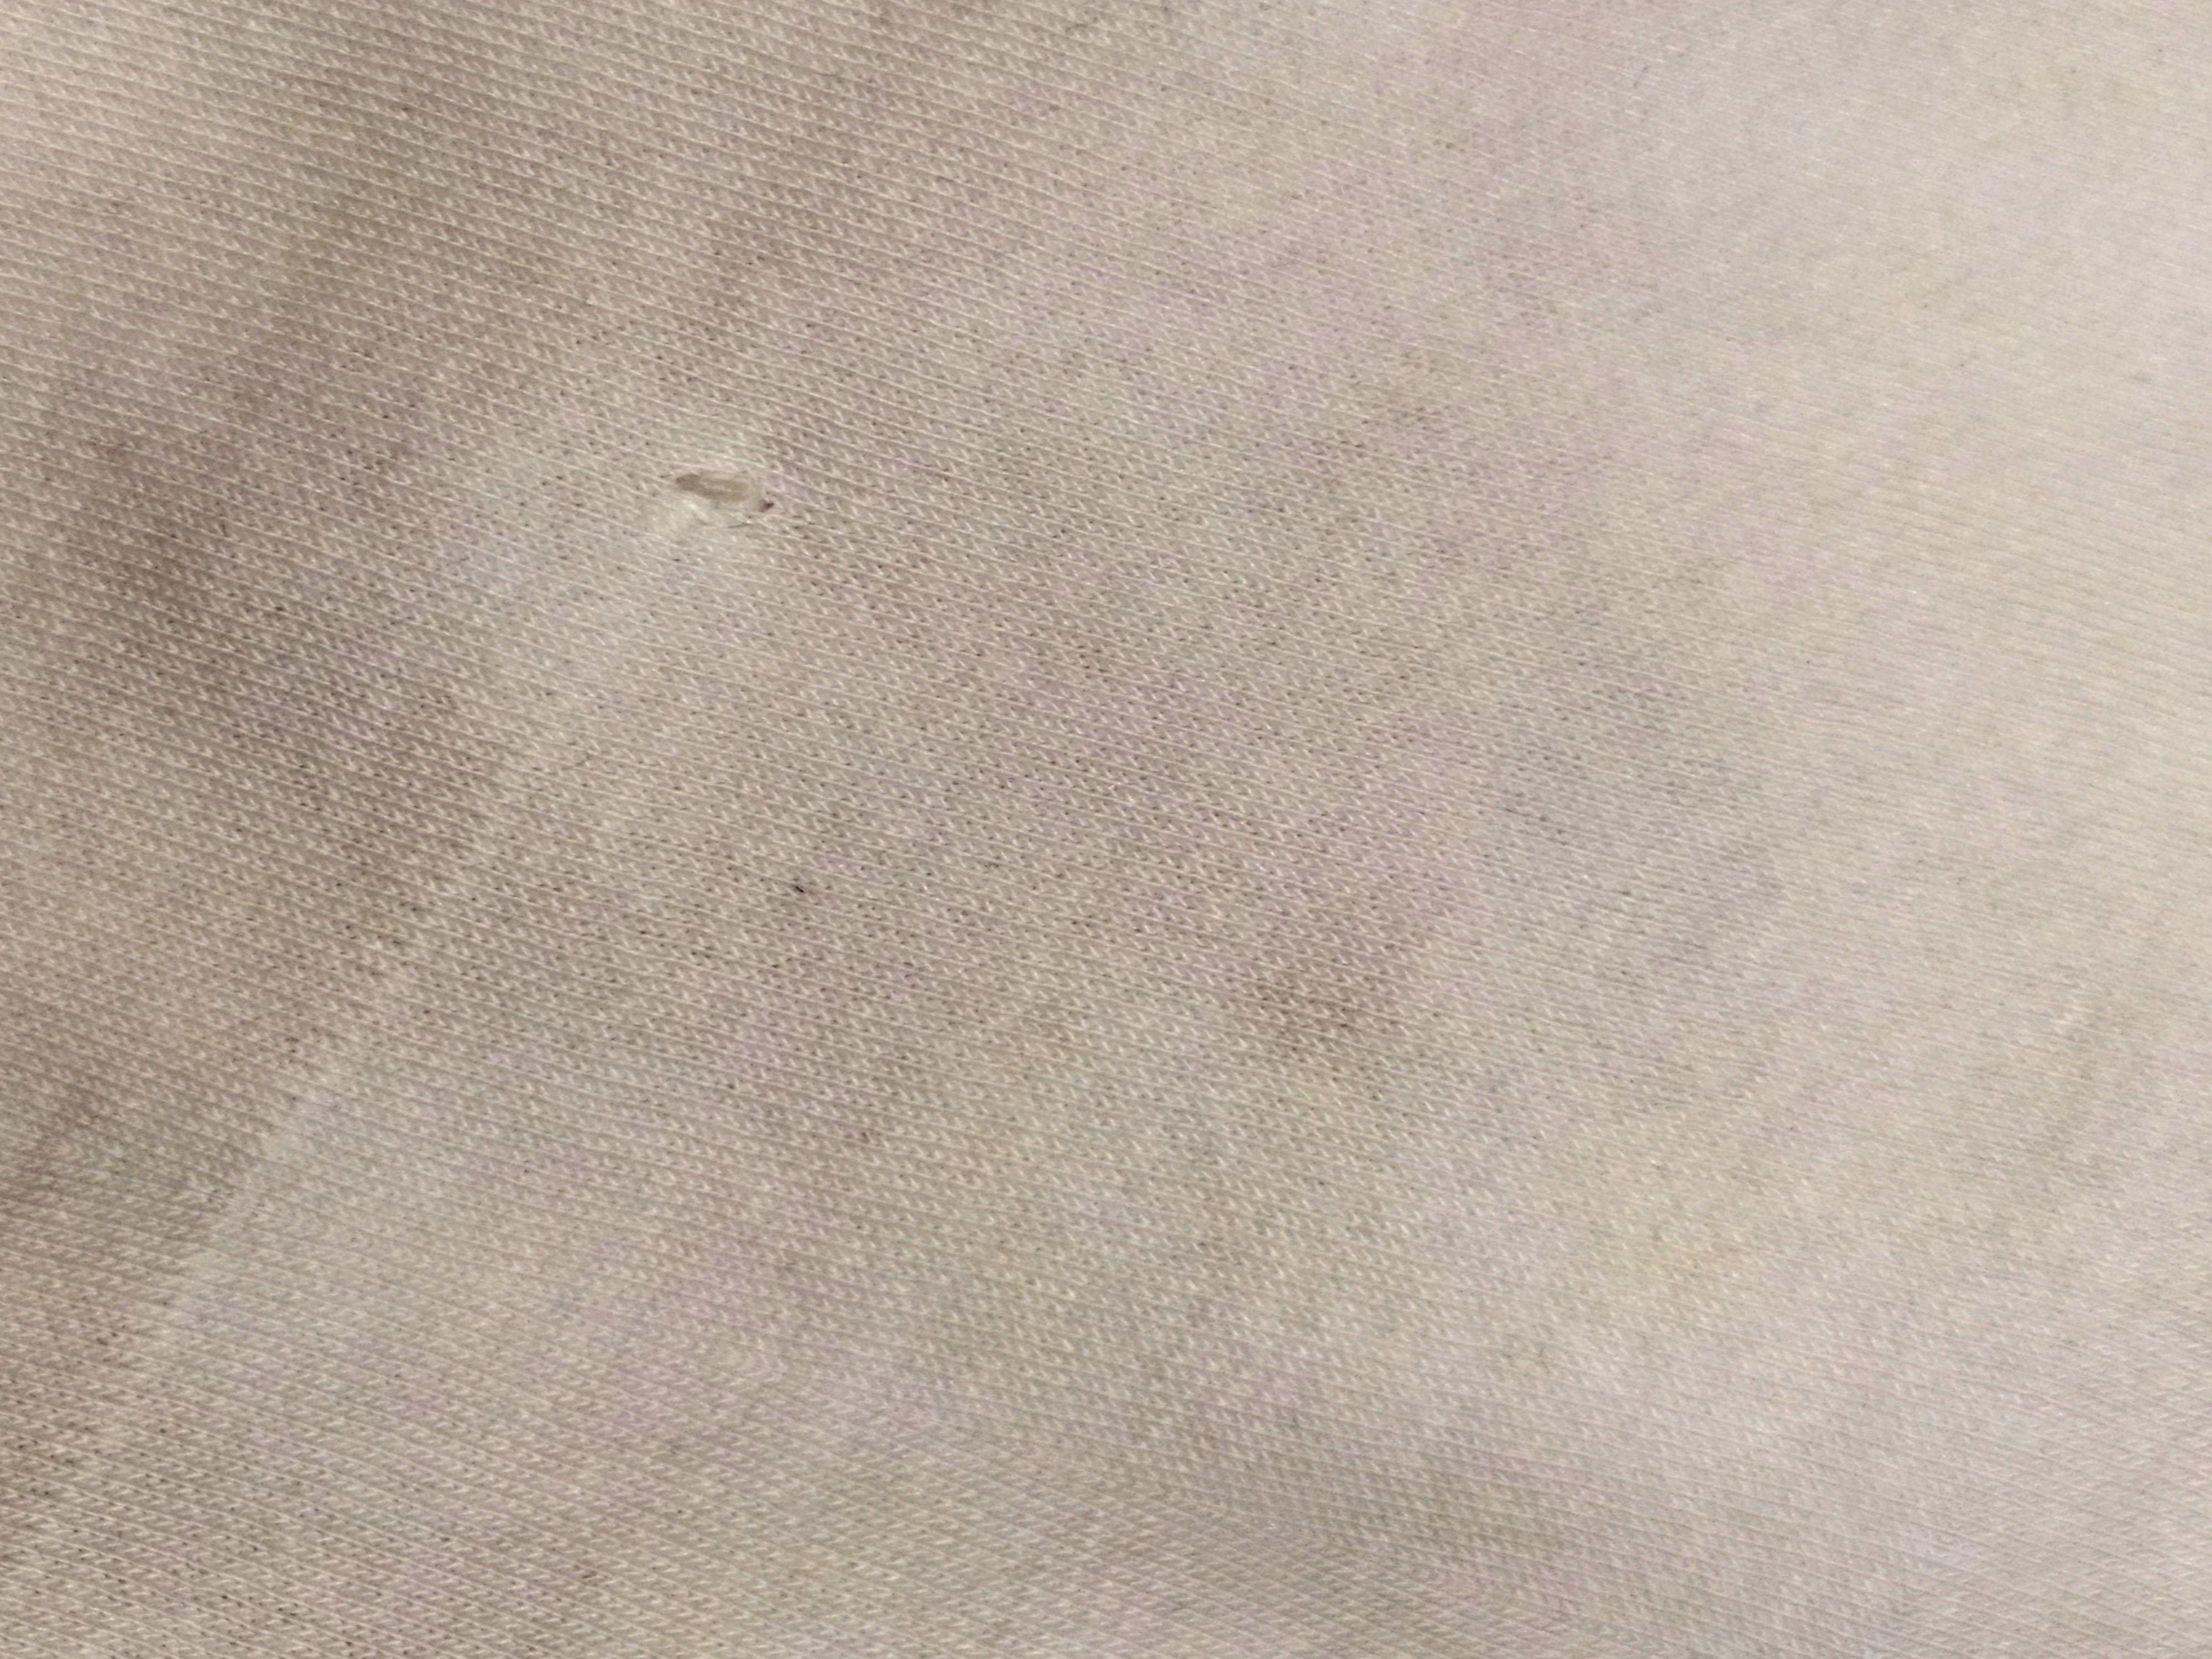knot: (625, 443, 812, 565)
